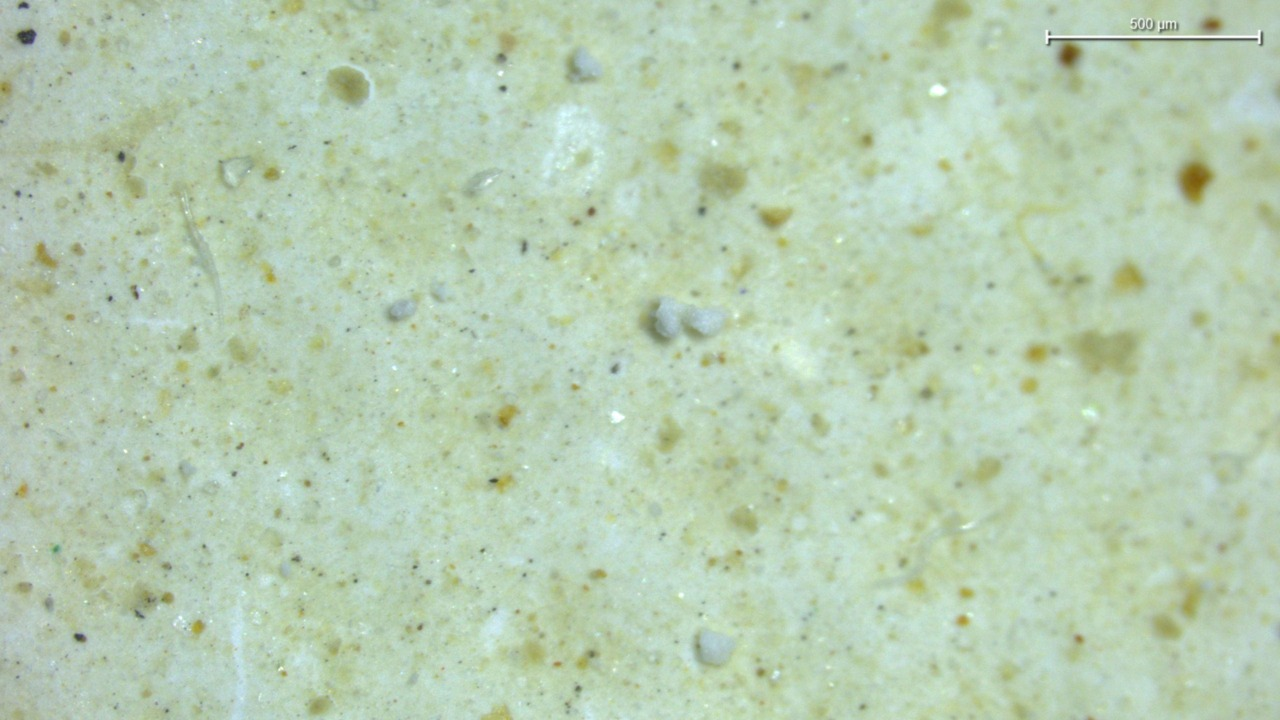microplastic_fragment: (651, 298, 687, 339), (696, 630, 735, 665), (682, 308, 728, 336)
